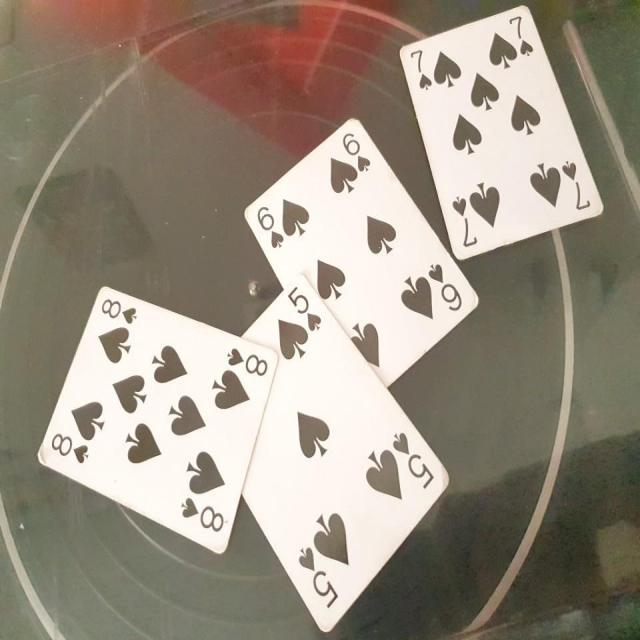5 of spades: (208, 264, 454, 640)
6 of spades: (226, 108, 484, 378)
7 of spades: (398, 1, 607, 266)
8 of spades: (27, 274, 284, 568)
